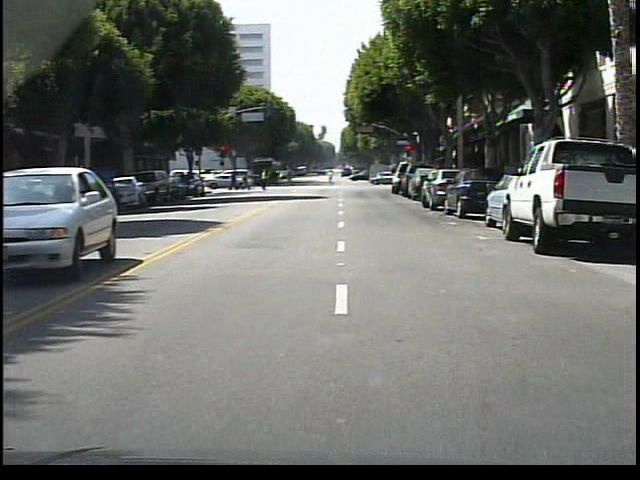person: (256, 165, 276, 195)
